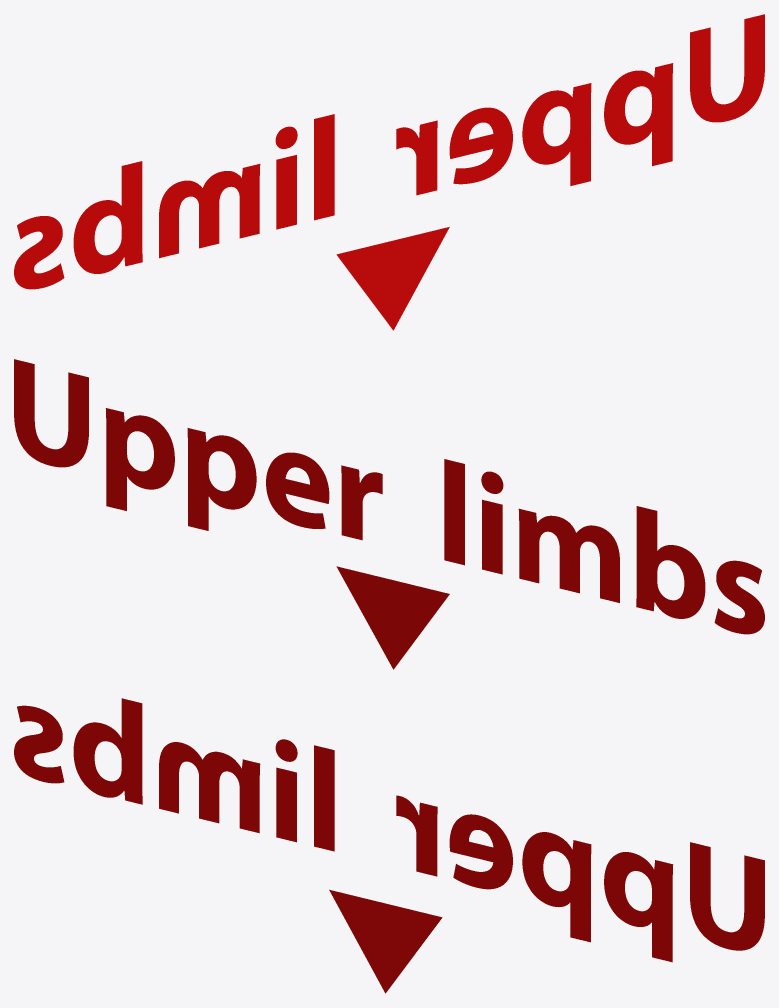
File: Upper limbs FBX.FBX
The picture shows the model from 3 angles, top to bottom: view 1: azimuth 30°, elevation 25°; view 2: azimuth 150°, elevation 25°; view 3: azimuth 330°, elevation 25°; orthographic projection.
Visible parts, largest first — view 1: Upper limbs_TXT, Arrow; view 2: Upper limbs_TXT, Arrow; view 3: Upper limbs_TXT, Arrow.
Boxes of the visible parts, x1,y1,x2,y2 form: Upper limbs_TXT: (14,14,764,289); Arrow: (336,227,449,330); Upper limbs_TXT: (14,359,764,634); Arrow: (336,566,449,669); Upper limbs_TXT: (14,698,764,962); Arrow: (329,889,442,993).
Bounding box in the file's own units: 133 × 38.52 × 1.23.
